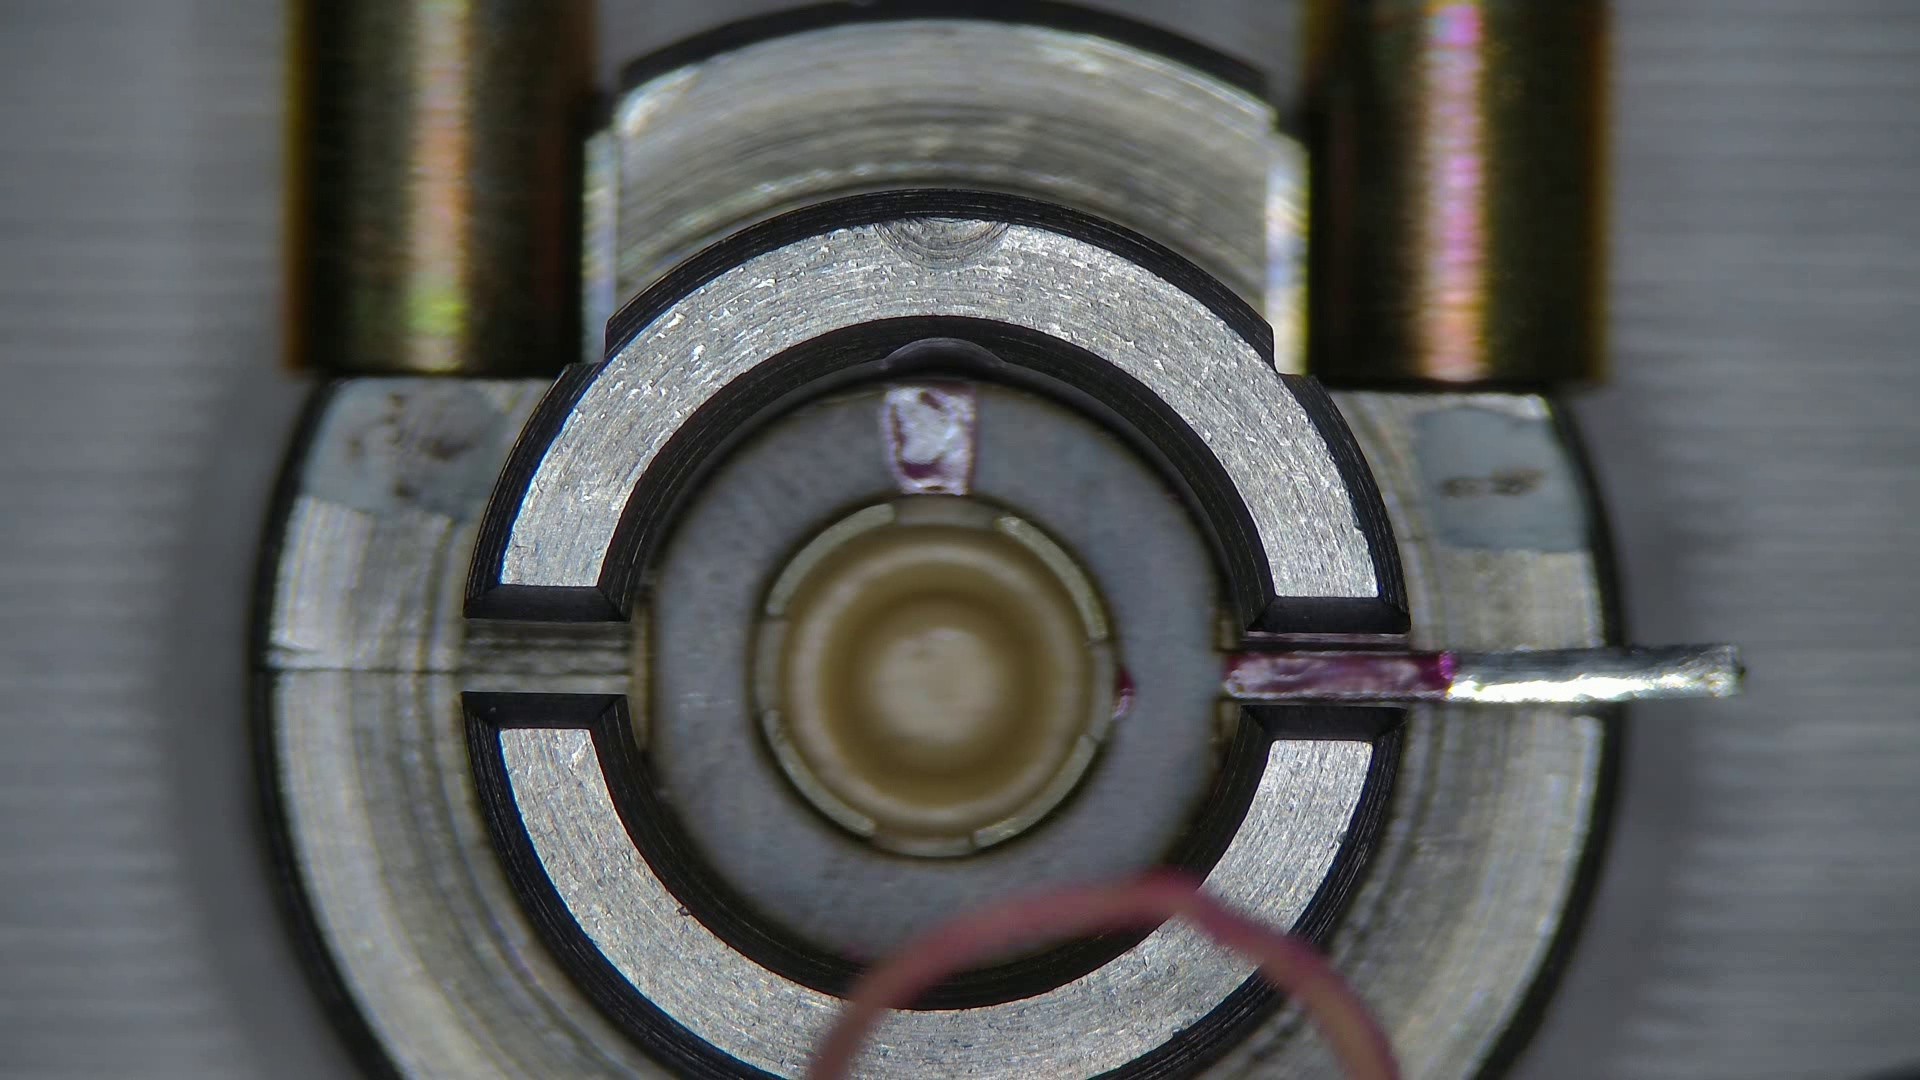GreyOring: (814, 876, 1391, 1079)
YellowOring: (650, 382, 1216, 948)
